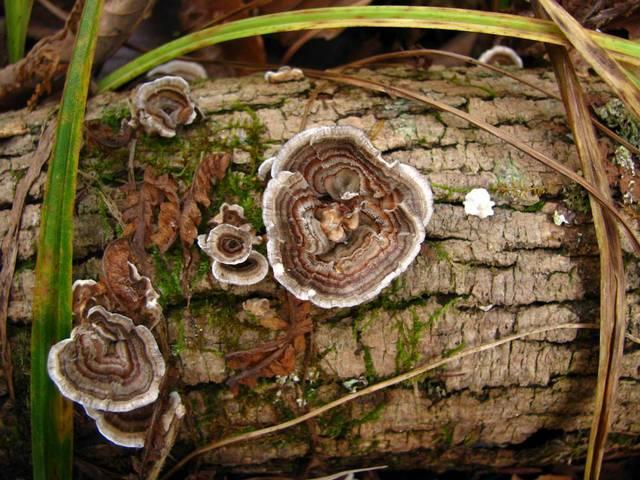poisonous_mushroom: (257, 123, 434, 309), (45, 304, 167, 449), (129, 74, 198, 139)
